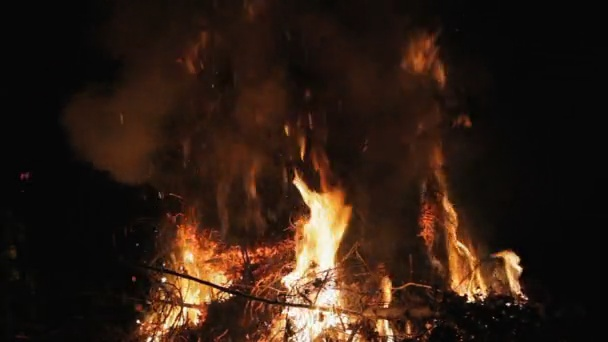fire: (278, 177, 353, 342), (138, 223, 244, 330), (446, 204, 487, 297), (506, 250, 522, 297), (380, 274, 390, 306), (375, 319, 388, 334)
